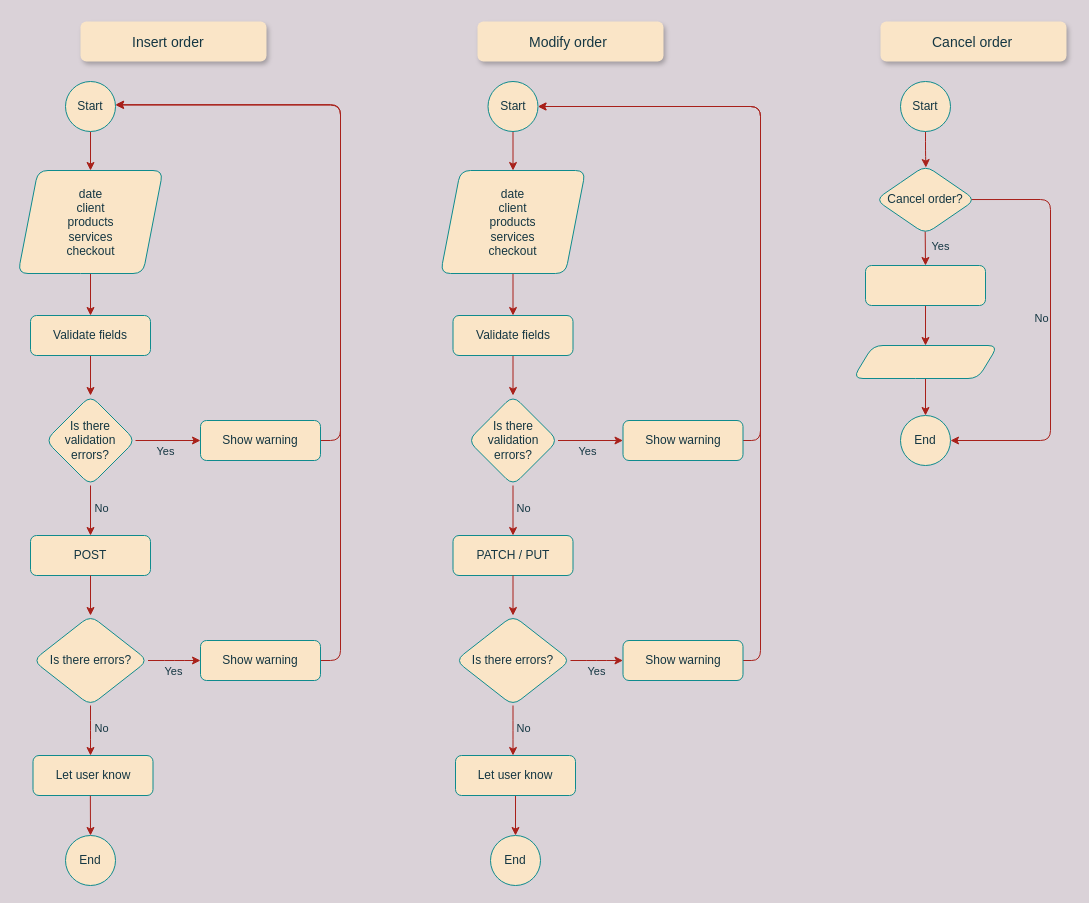
Some shapes in this 1089 by 903 pixel diagram are drawn without their labels. Each missing label, with the centre of its shape:
"DELETE" goes at [925,285].
"Order cancelled" goes at [925,361].
